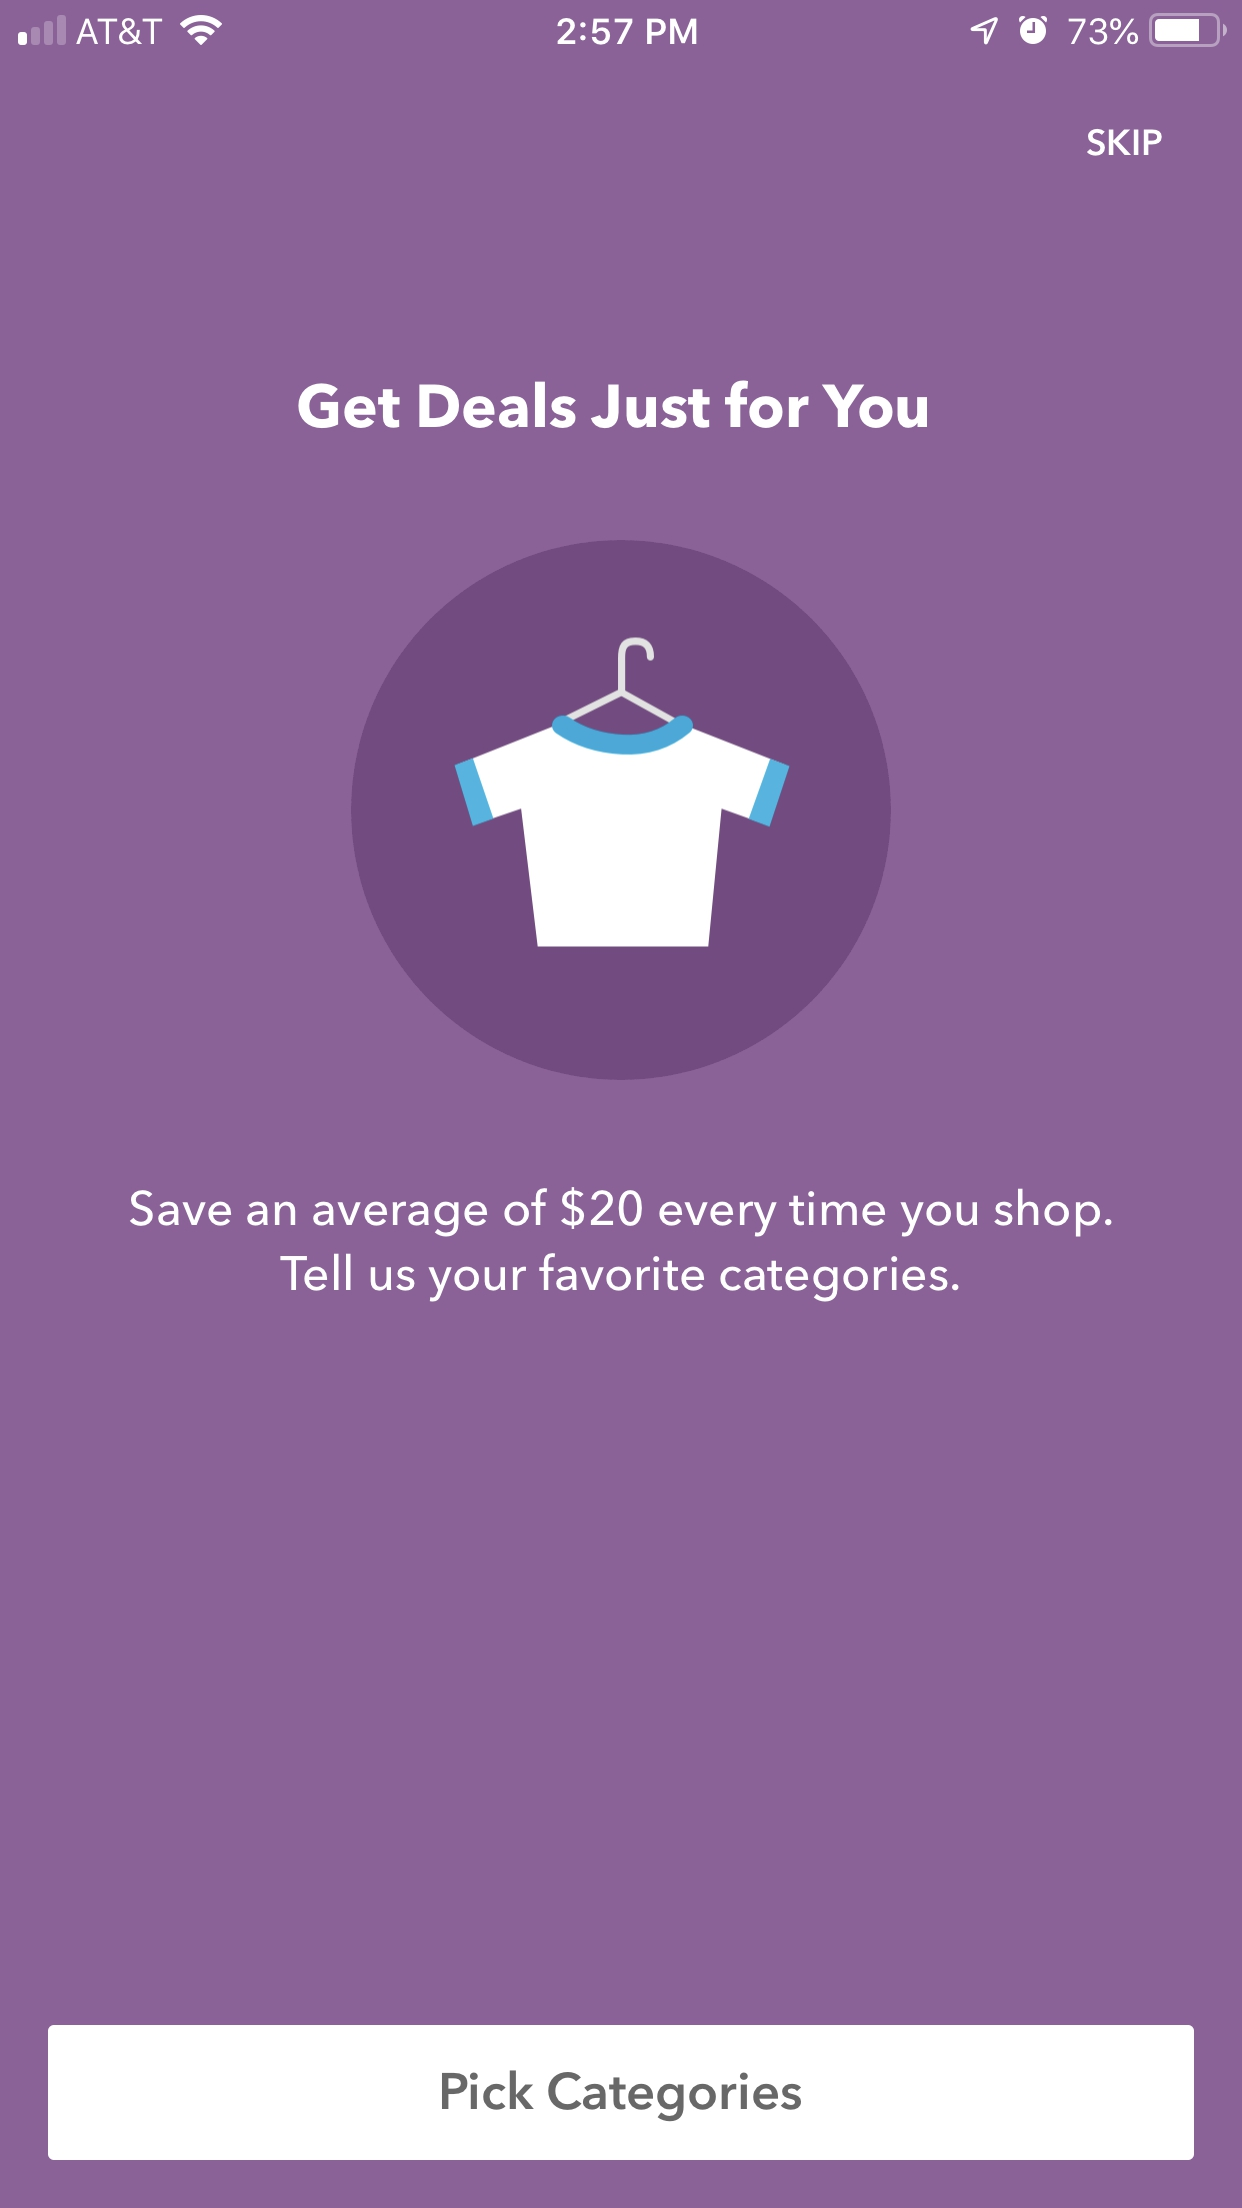Image: (350, 540, 892, 1081)
Text: (130, 1186, 1113, 1304), (299, 381, 928, 431), (1087, 129, 1163, 158)
TextButton: (49, 2025, 1195, 2161)
UpperTaskBar: (2, 2, 1242, 49)
